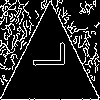L: (25, 41, 64, 69)
